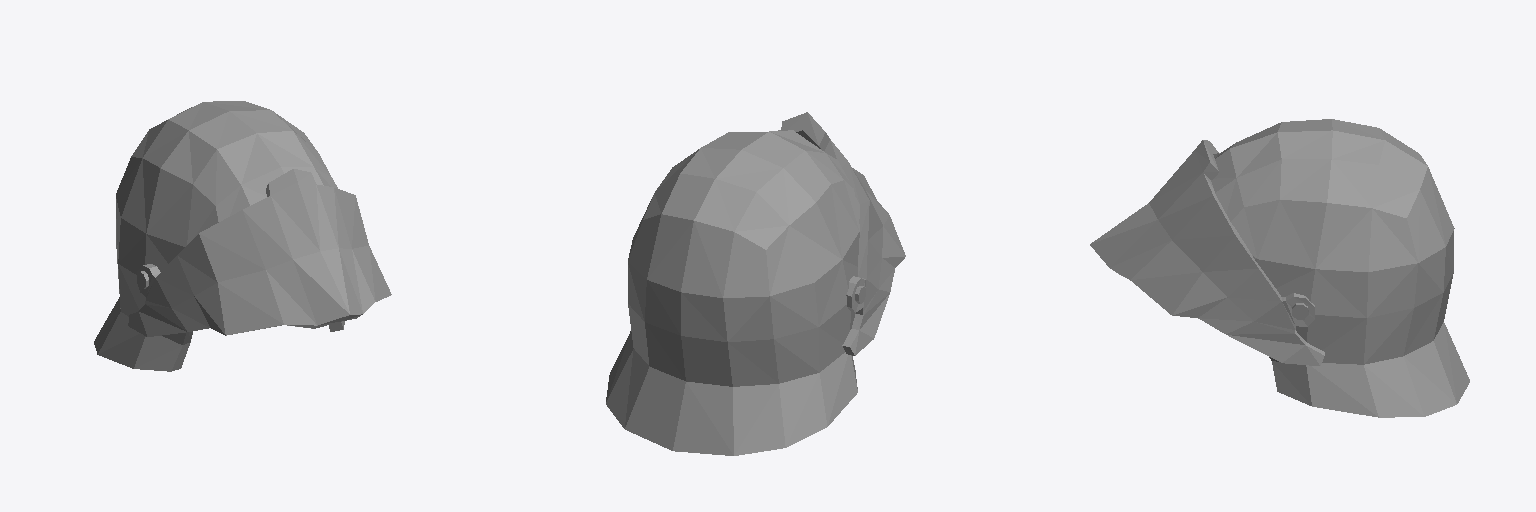
The model's file is Helm11.obj.
3 views of the same model, side by side, from view 1: azimuth 30°, elevation 25°; view 2: azimuth 150°, elevation 25°; view 3: azimuth 270°, elevation 25° (orthographic).
Parts seen in each view (by area): view 1: helm_11_Mesh_0170.rip; view 2: helm_11_Mesh_0170.rip; view 3: helm_11_Mesh_0170.rip.
Part boxes in pixels (x1,y1,x2,y2): helm_11_Mesh_0170.rip: (94, 101, 391, 371); helm_11_Mesh_0170.rip: (606, 112, 905, 455); helm_11_Mesh_0170.rip: (1090, 119, 1469, 417).
Bounding box in the file's own units: 4.22 × 4.65 × 6.39.